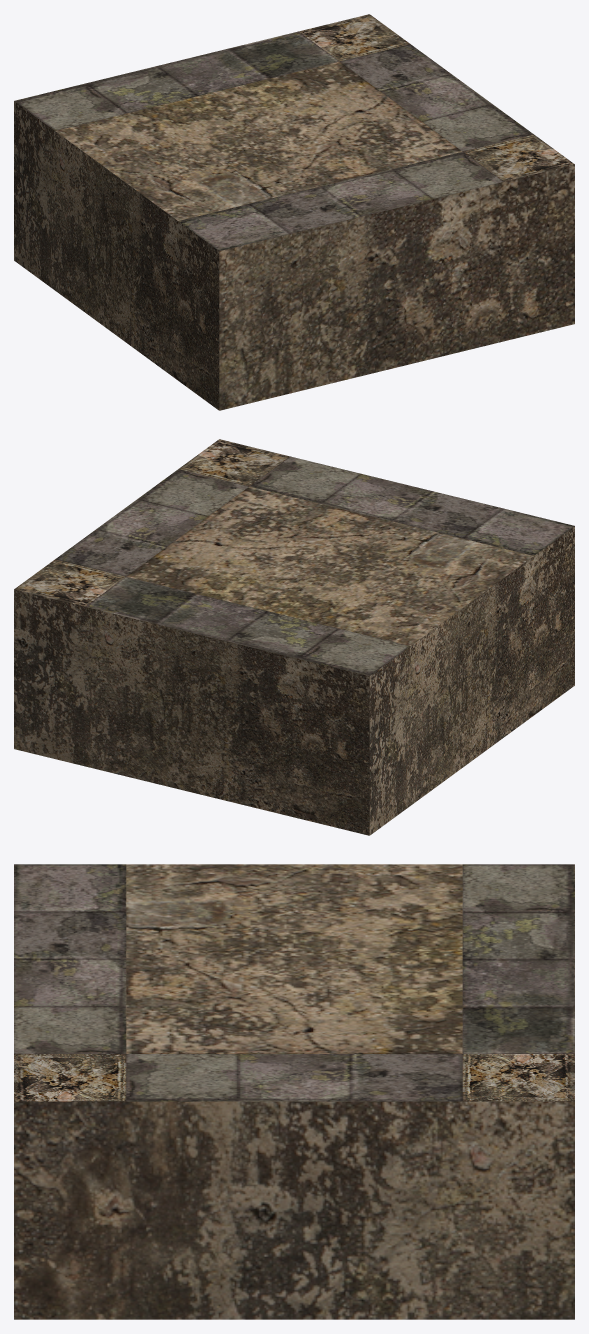
File: materials_5_floor_rectangle_3.fbx
The picture shows the model from 3 angles, top to bottom: view 1: azimuth 30°, elevation 25°; view 2: azimuth 150°, elevation 25°; view 3: azimuth 270°, elevation 25°; orthographic projection. The views are drawn at different scales.
Parts seen in each view (by area): view 1: materials_5_floor_rectangle_3; view 2: materials_5_floor_rectangle_3; view 3: materials_5_floor_rectangle_3.
Part boxes in pixels (x1,y1,x2,y2): materials_5_floor_rectangle_3: [14, 14, 574, 410]; materials_5_floor_rectangle_3: [14, 439, 574, 835]; materials_5_floor_rectangle_3: [14, 864, 574, 1319].
Bounding box in the file's own units: 100 × 42.89 × 100.
